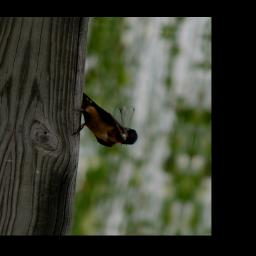Swallow: (65, 91, 144, 151)
